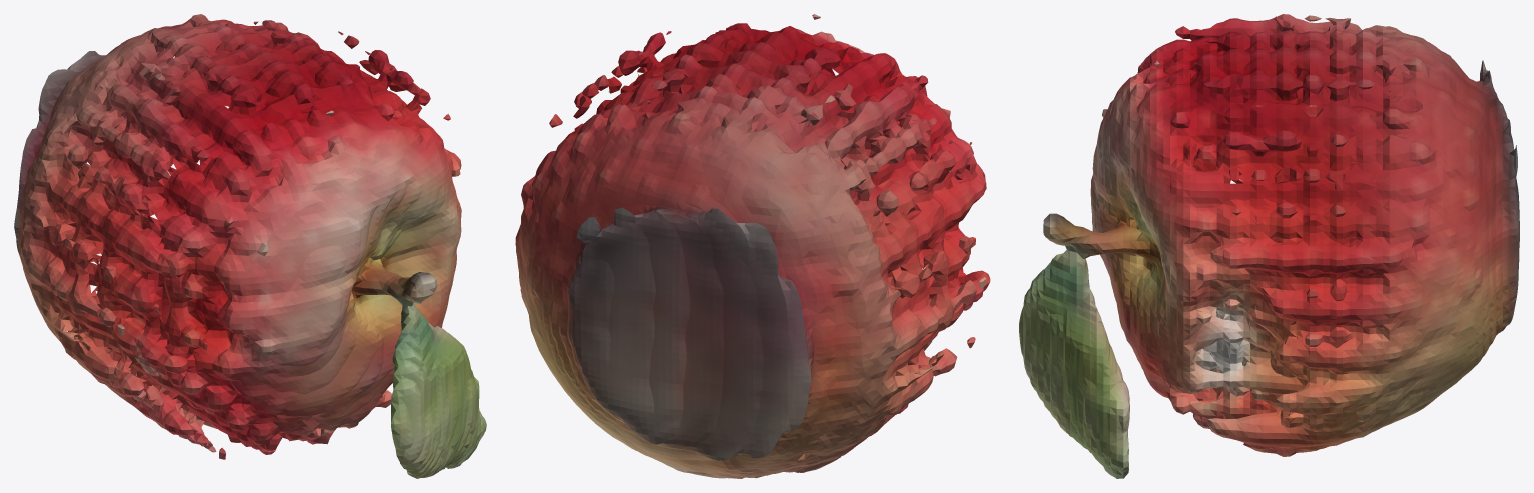
3 renders of one model, left to right at view 1: azimuth 30°, elevation 25°; view 2: azimuth 150°, elevation 25°; view 3: azimuth 270°, elevation 25°, orthographic. The views are drawn at different scales.
Parts seen in each view (by area): view 1: world; view 2: world; view 3: world.
Part boxes in pixels (box(x1,y1,x2,y2)): world: box(14, 14, 486, 478); world: box(515, 14, 990, 478); world: box(1019, 14, 1519, 478).
Size of the model in its own units: 0.4443 by 0.4298 by 0.5131.
